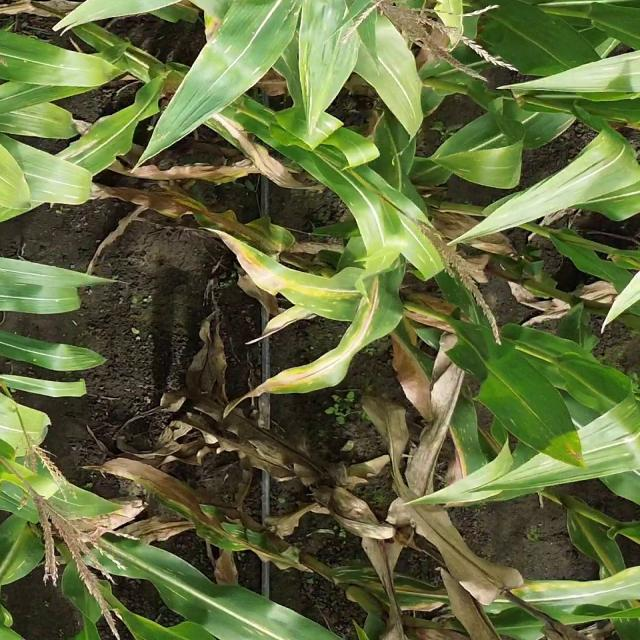gray-leaf-spot: (209, 34, 419, 103)
northern-leaf-blight: (236, 243, 392, 402), (148, 488, 342, 592), (346, 559, 627, 611)
southern-leaf-blight: (448, 388, 563, 469)
